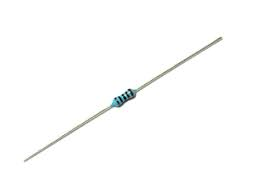resistor: (106, 77, 142, 118)
